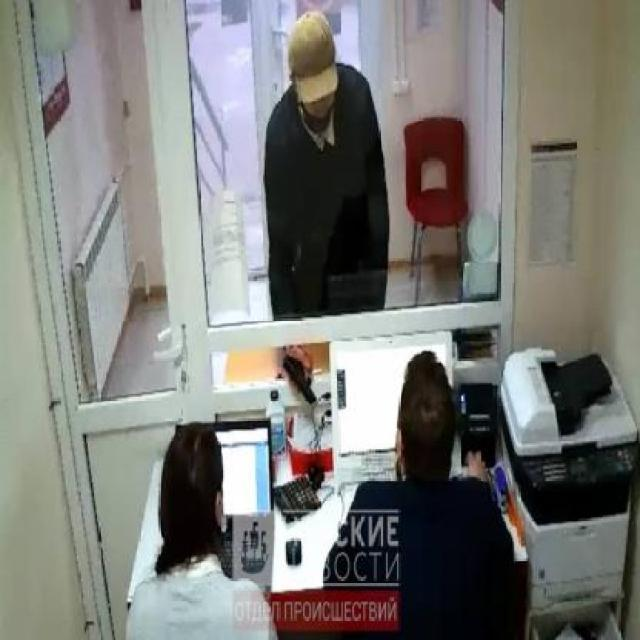weapon: (276, 352, 322, 410)
